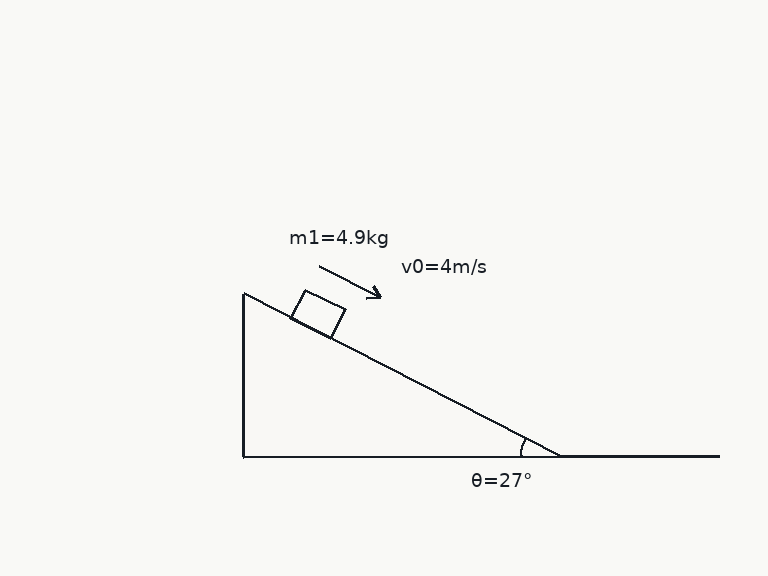block: (289, 287, 347, 340)
ramp: (241, 292, 563, 458)
